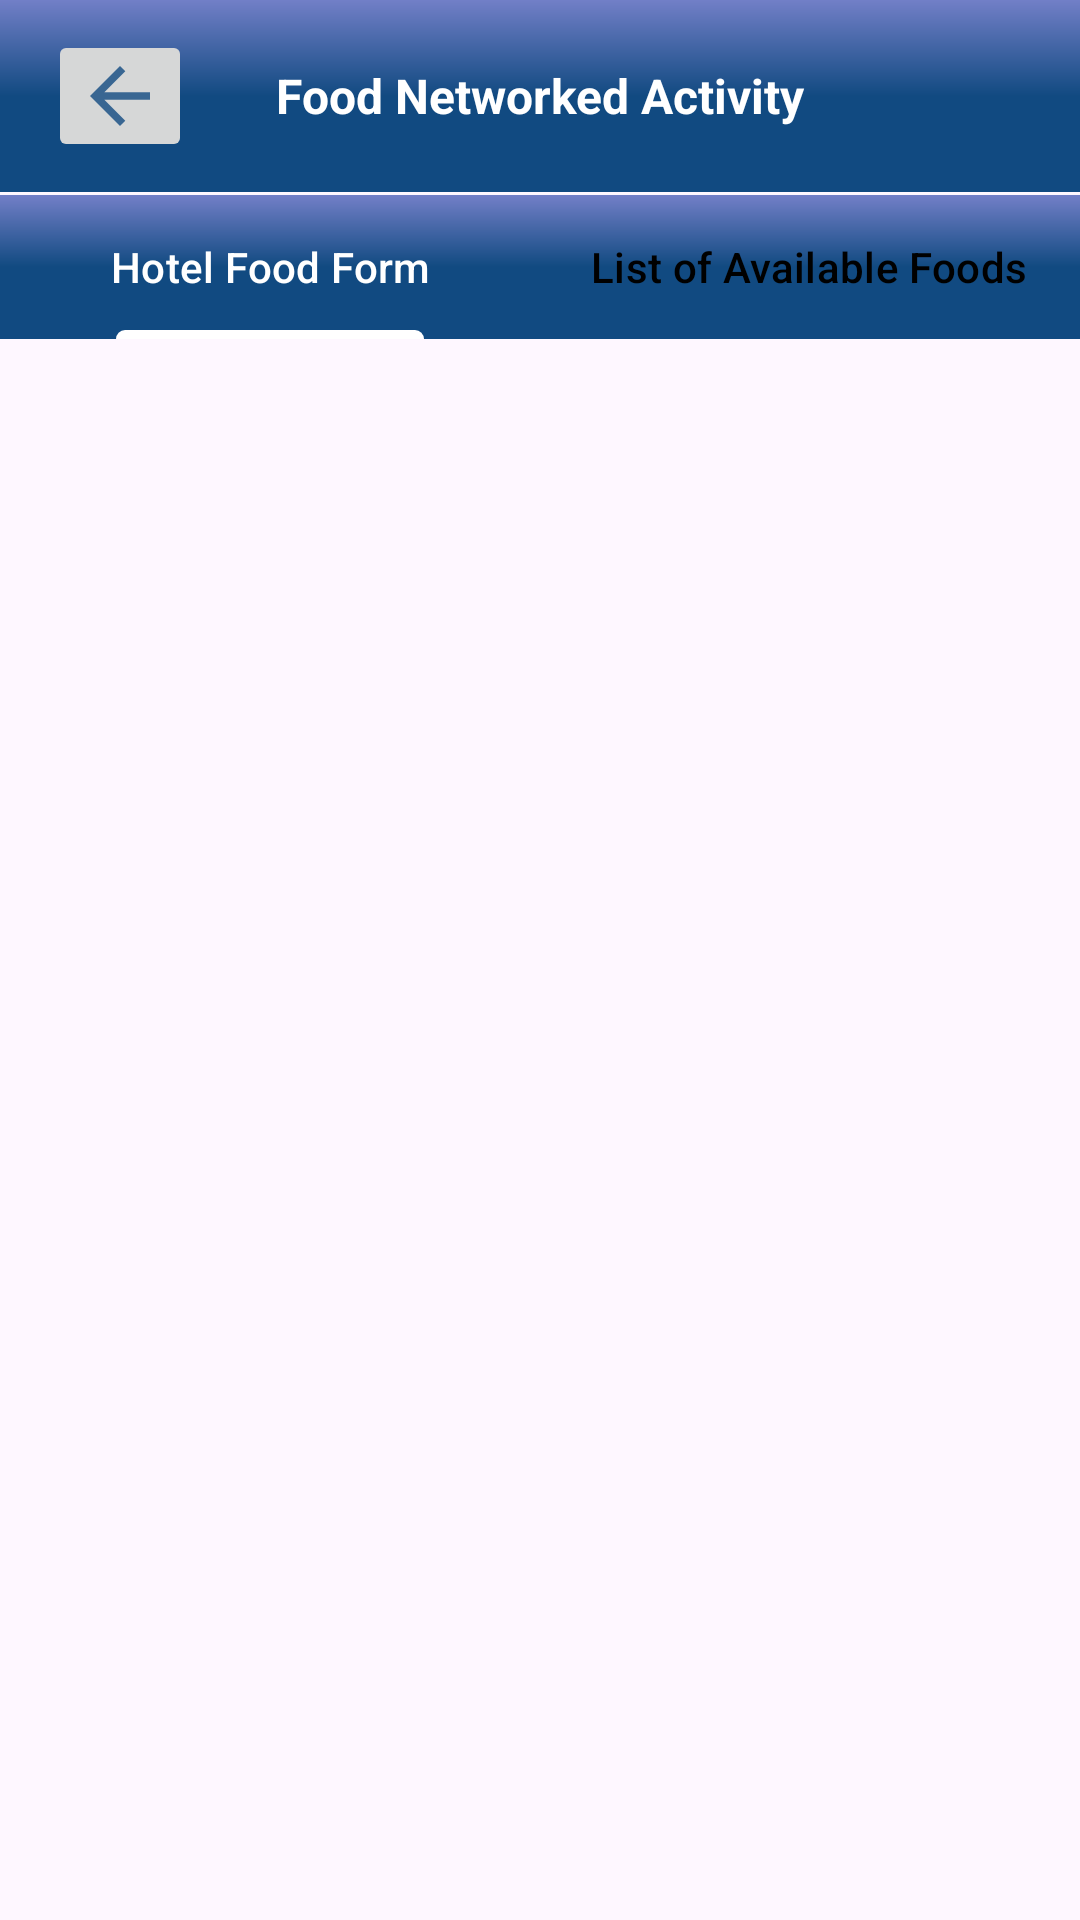

Screen size 1080 x 1920. Icon name, then its center in pixels as [x,y]:
back arrow: [120,96]
